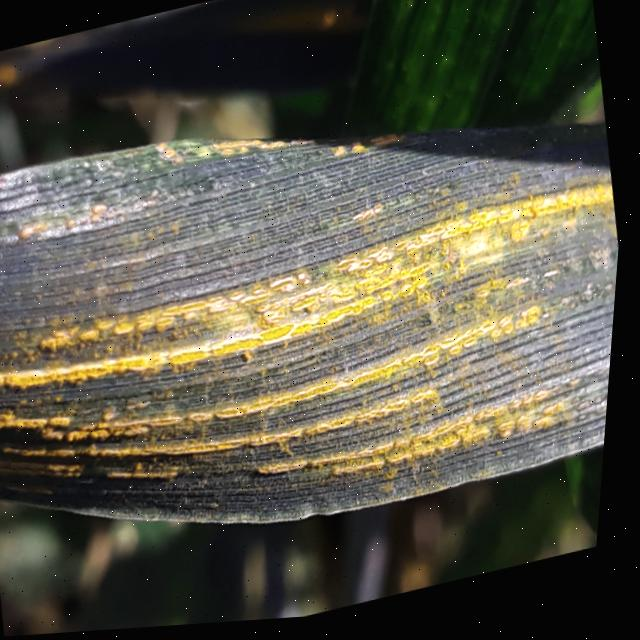yellow_rust: (0, 32, 636, 603), (0, 0, 369, 144)
